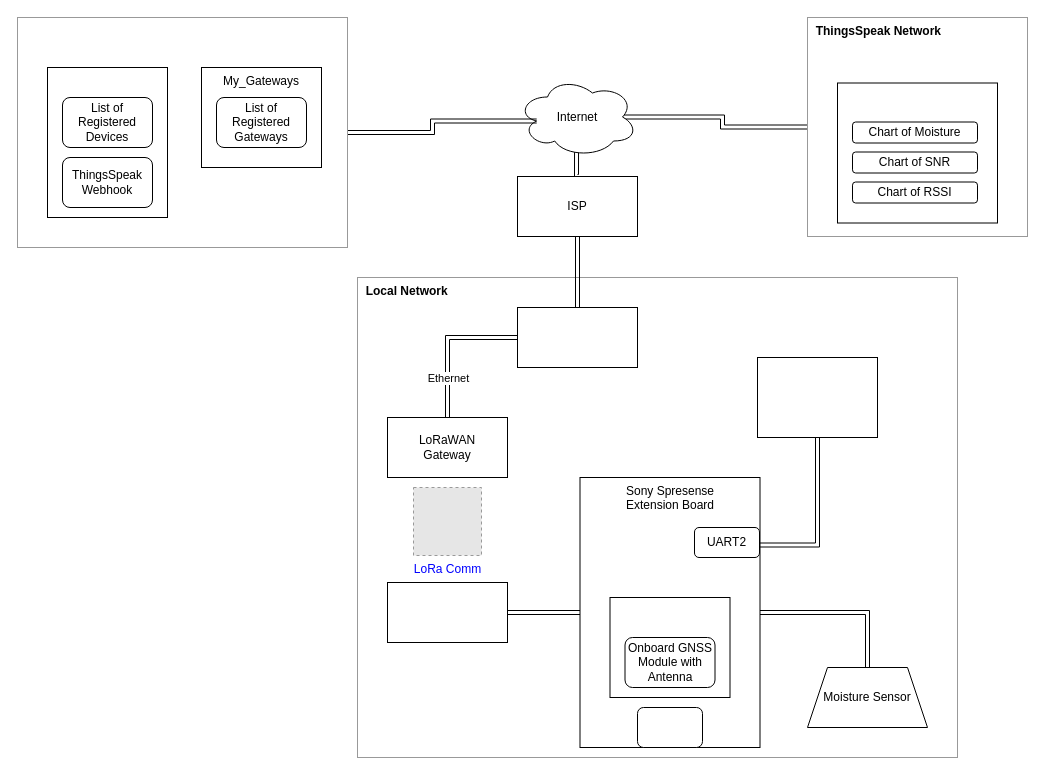
Some shapes in this 1045 by 775 pixel diagram are drawn without their labels. Grey dashed boxes stand in for pictures. The box of each missing label's shape, as (x1, y1, x2, y2) in pixels:
Internet Router: (516, 306, 638, 368)
LoRa Radio Board RFM9x: (386, 582, 508, 642)
My_Application: (46, 66, 168, 218)
My_Channel: (836, 82, 998, 223)
Seeed Studio WIO Terminal (Serial monitor when mobile.): (756, 356, 878, 438)
Sony Spresense: (609, 596, 730, 698)
The Things Network: (16, 16, 348, 248)
USB (UART1): (636, 706, 702, 748)
